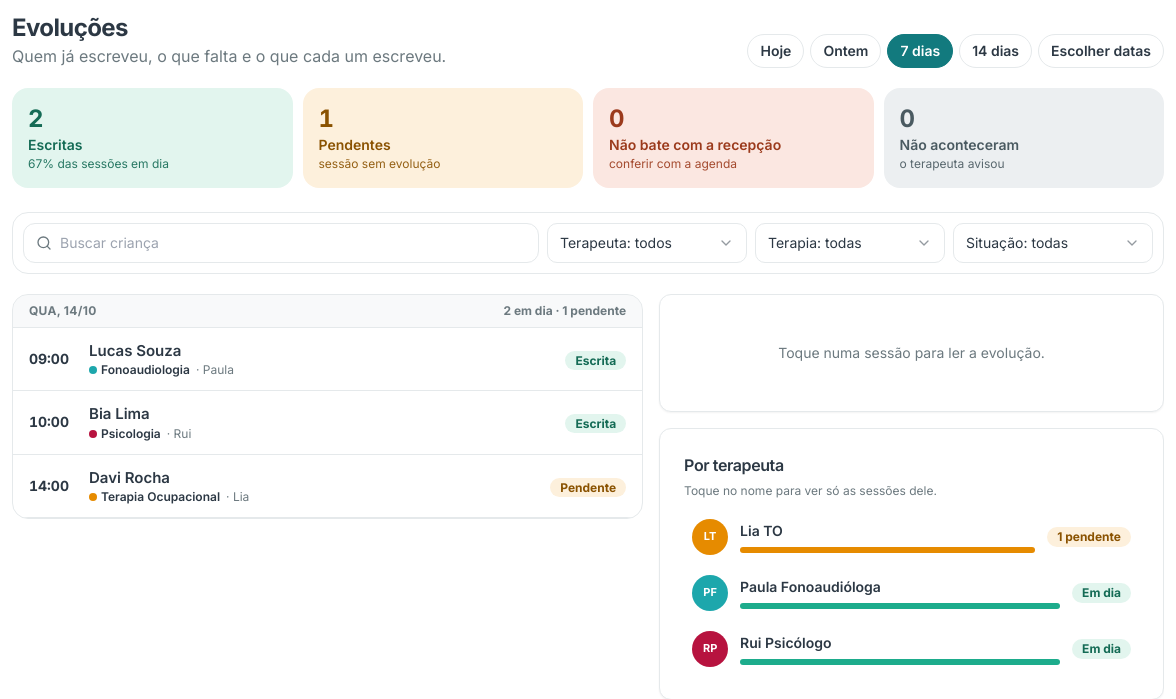
sessão pendente avisa que ainda não tem evolução, sem ler o banco
Step 1. Click the button "14:00 Davi Rocha Terapia Ocupacional · Lia Pendente" → click(49, 485), box 13,454 -> 642,518
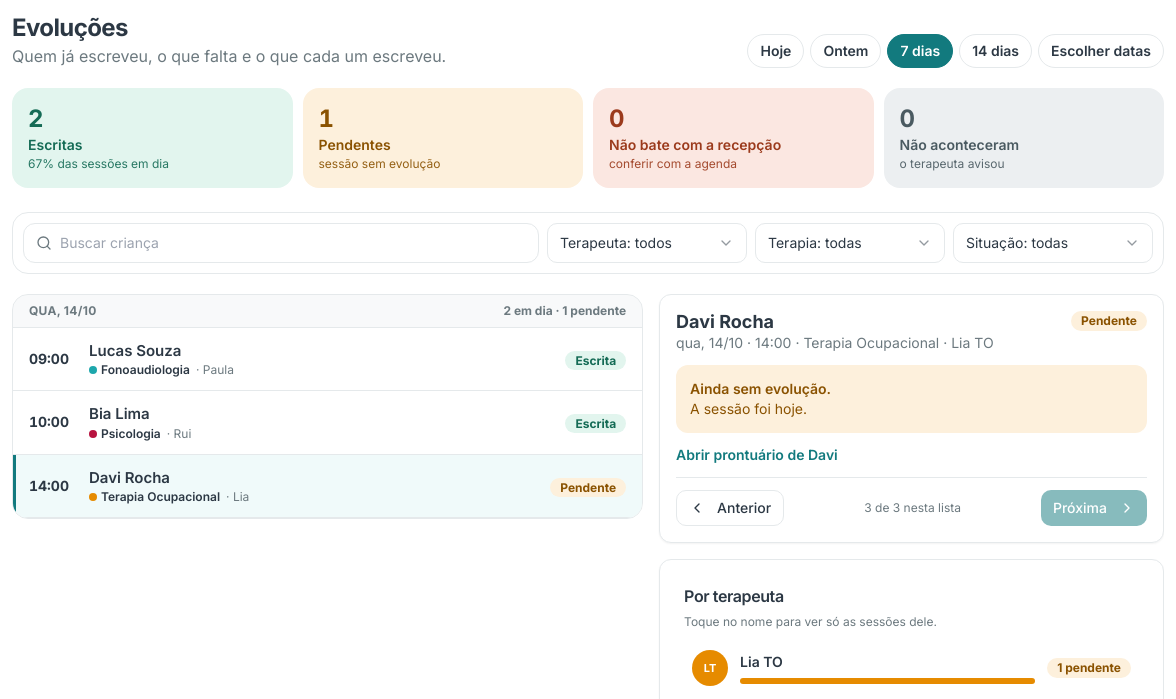
Expected: the text "Ainda sem evolução." is shown, 690,380 -> 831,397
